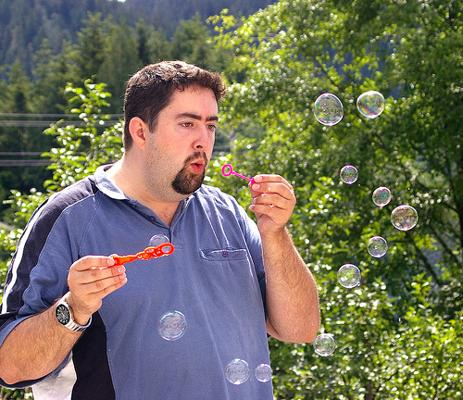person: (1, 59, 324, 400)
